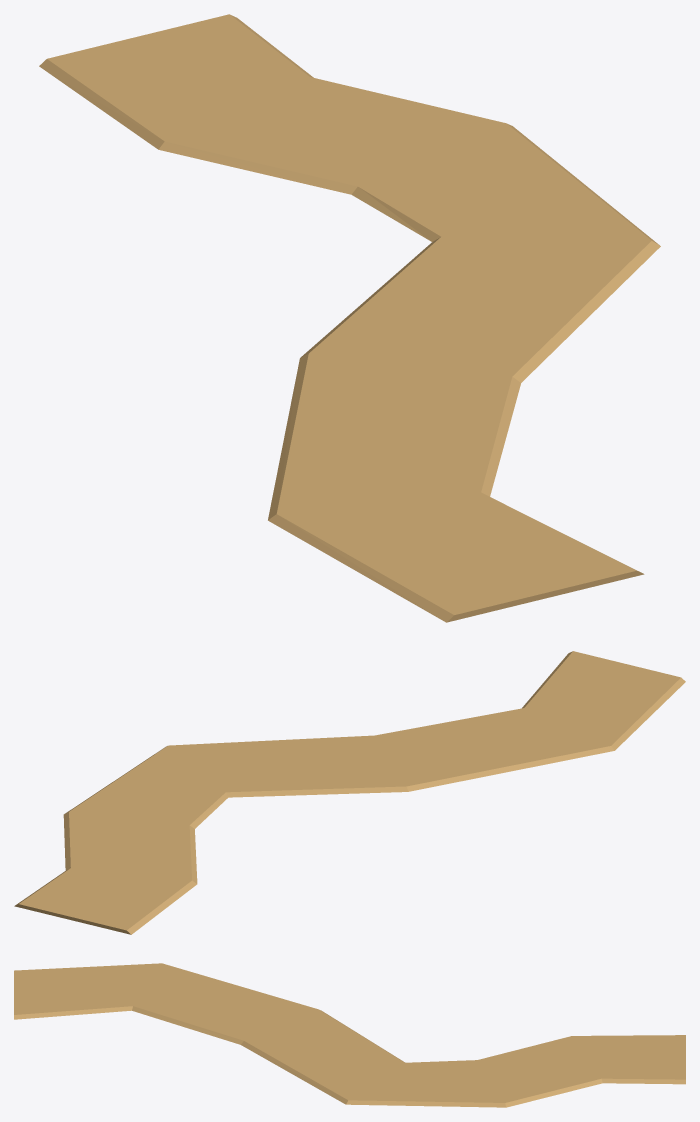
Rendered from Path.fbx.
The picture shows the model from 3 angles, top to bottom: view 1: azimuth 30°, elevation 25°; view 2: azimuth 150°, elevation 25°; view 3: azimuth 270°, elevation 25°; orthographic projection. The views are drawn at different scales.
Parts seen in each view (by area): view 1: Path; view 2: Path; view 3: Path.
Boxes of the visible parts, left/top/right/bottom form: Path: left=39, top=14, right=660, bottom=622; Path: left=14, top=651, right=685, bottom=934; Path: left=14, top=963, right=685, bottom=1107.
Bounding box in the file's own units: 8.89 × 0.08 × 17.6.
1 material, 1 textured.
